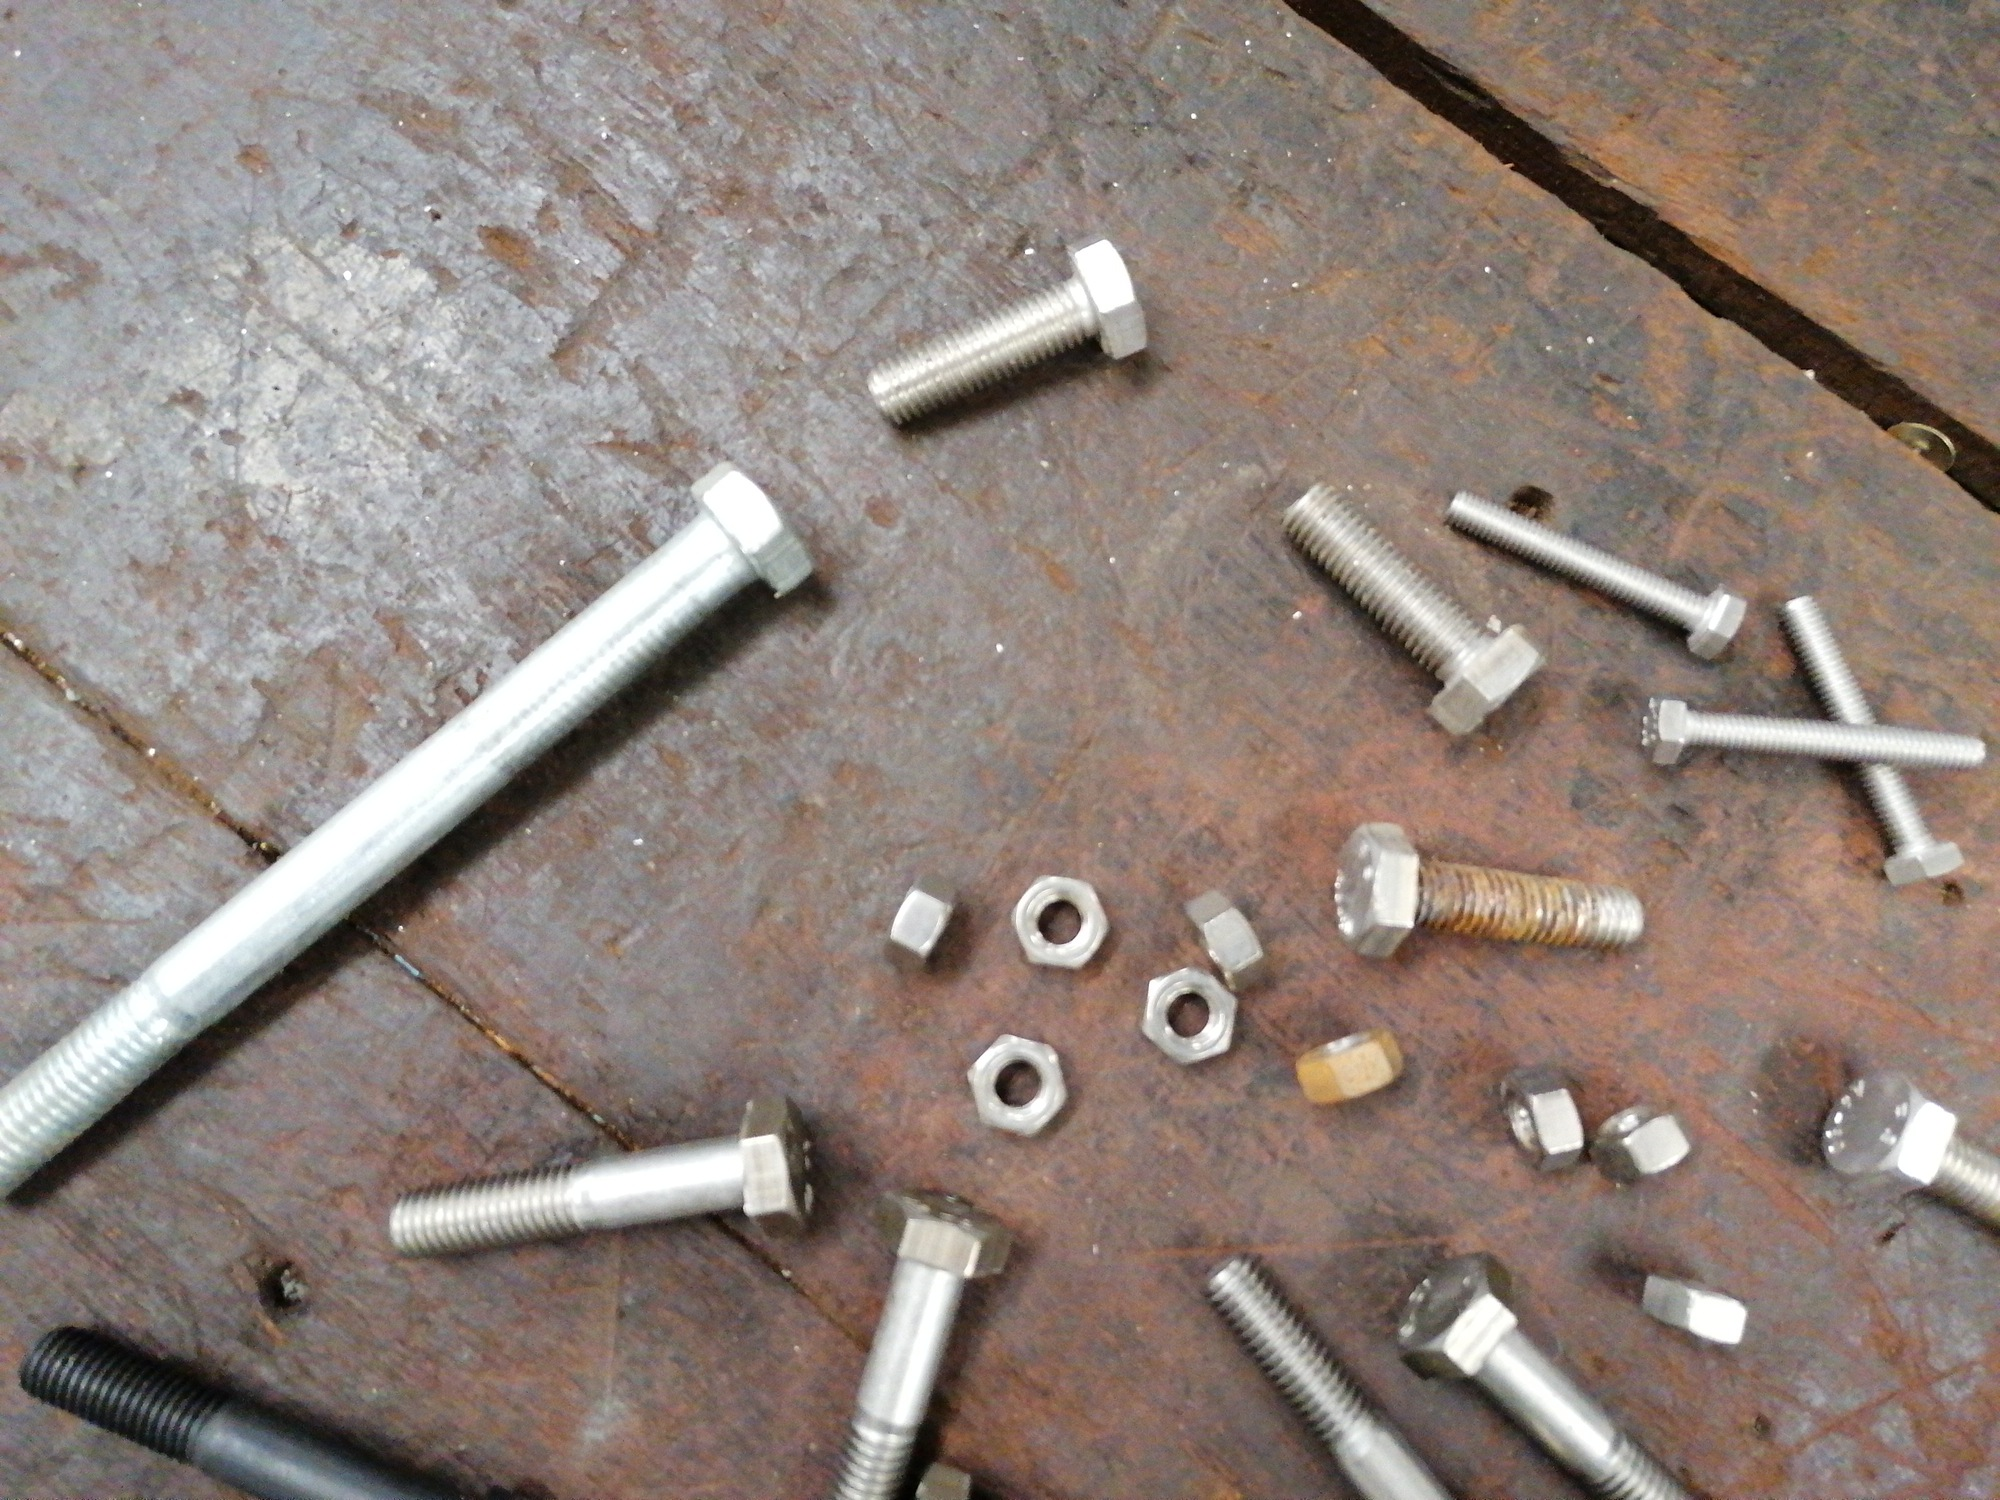bolt: (0, 459, 816, 1201), (14, 1322, 507, 1500), (1387, 1249, 1694, 1500), (386, 1090, 824, 1262), (1280, 481, 1546, 737), (1202, 1246, 1450, 1500), (827, 1188, 1014, 1500), (1773, 596, 1967, 887), (863, 228, 1153, 418), (1441, 487, 1748, 660), (1332, 819, 1646, 960), (1817, 1064, 2000, 1234), (1638, 692, 1987, 772)
nut: (964, 1030, 1068, 1141), (1006, 871, 1110, 972), (1137, 964, 1239, 1065), (1494, 1062, 1586, 1172), (1586, 1101, 1698, 1186), (1183, 887, 1268, 993), (1639, 1265, 1750, 1346), (1293, 1027, 1405, 1105), (883, 870, 961, 977)
